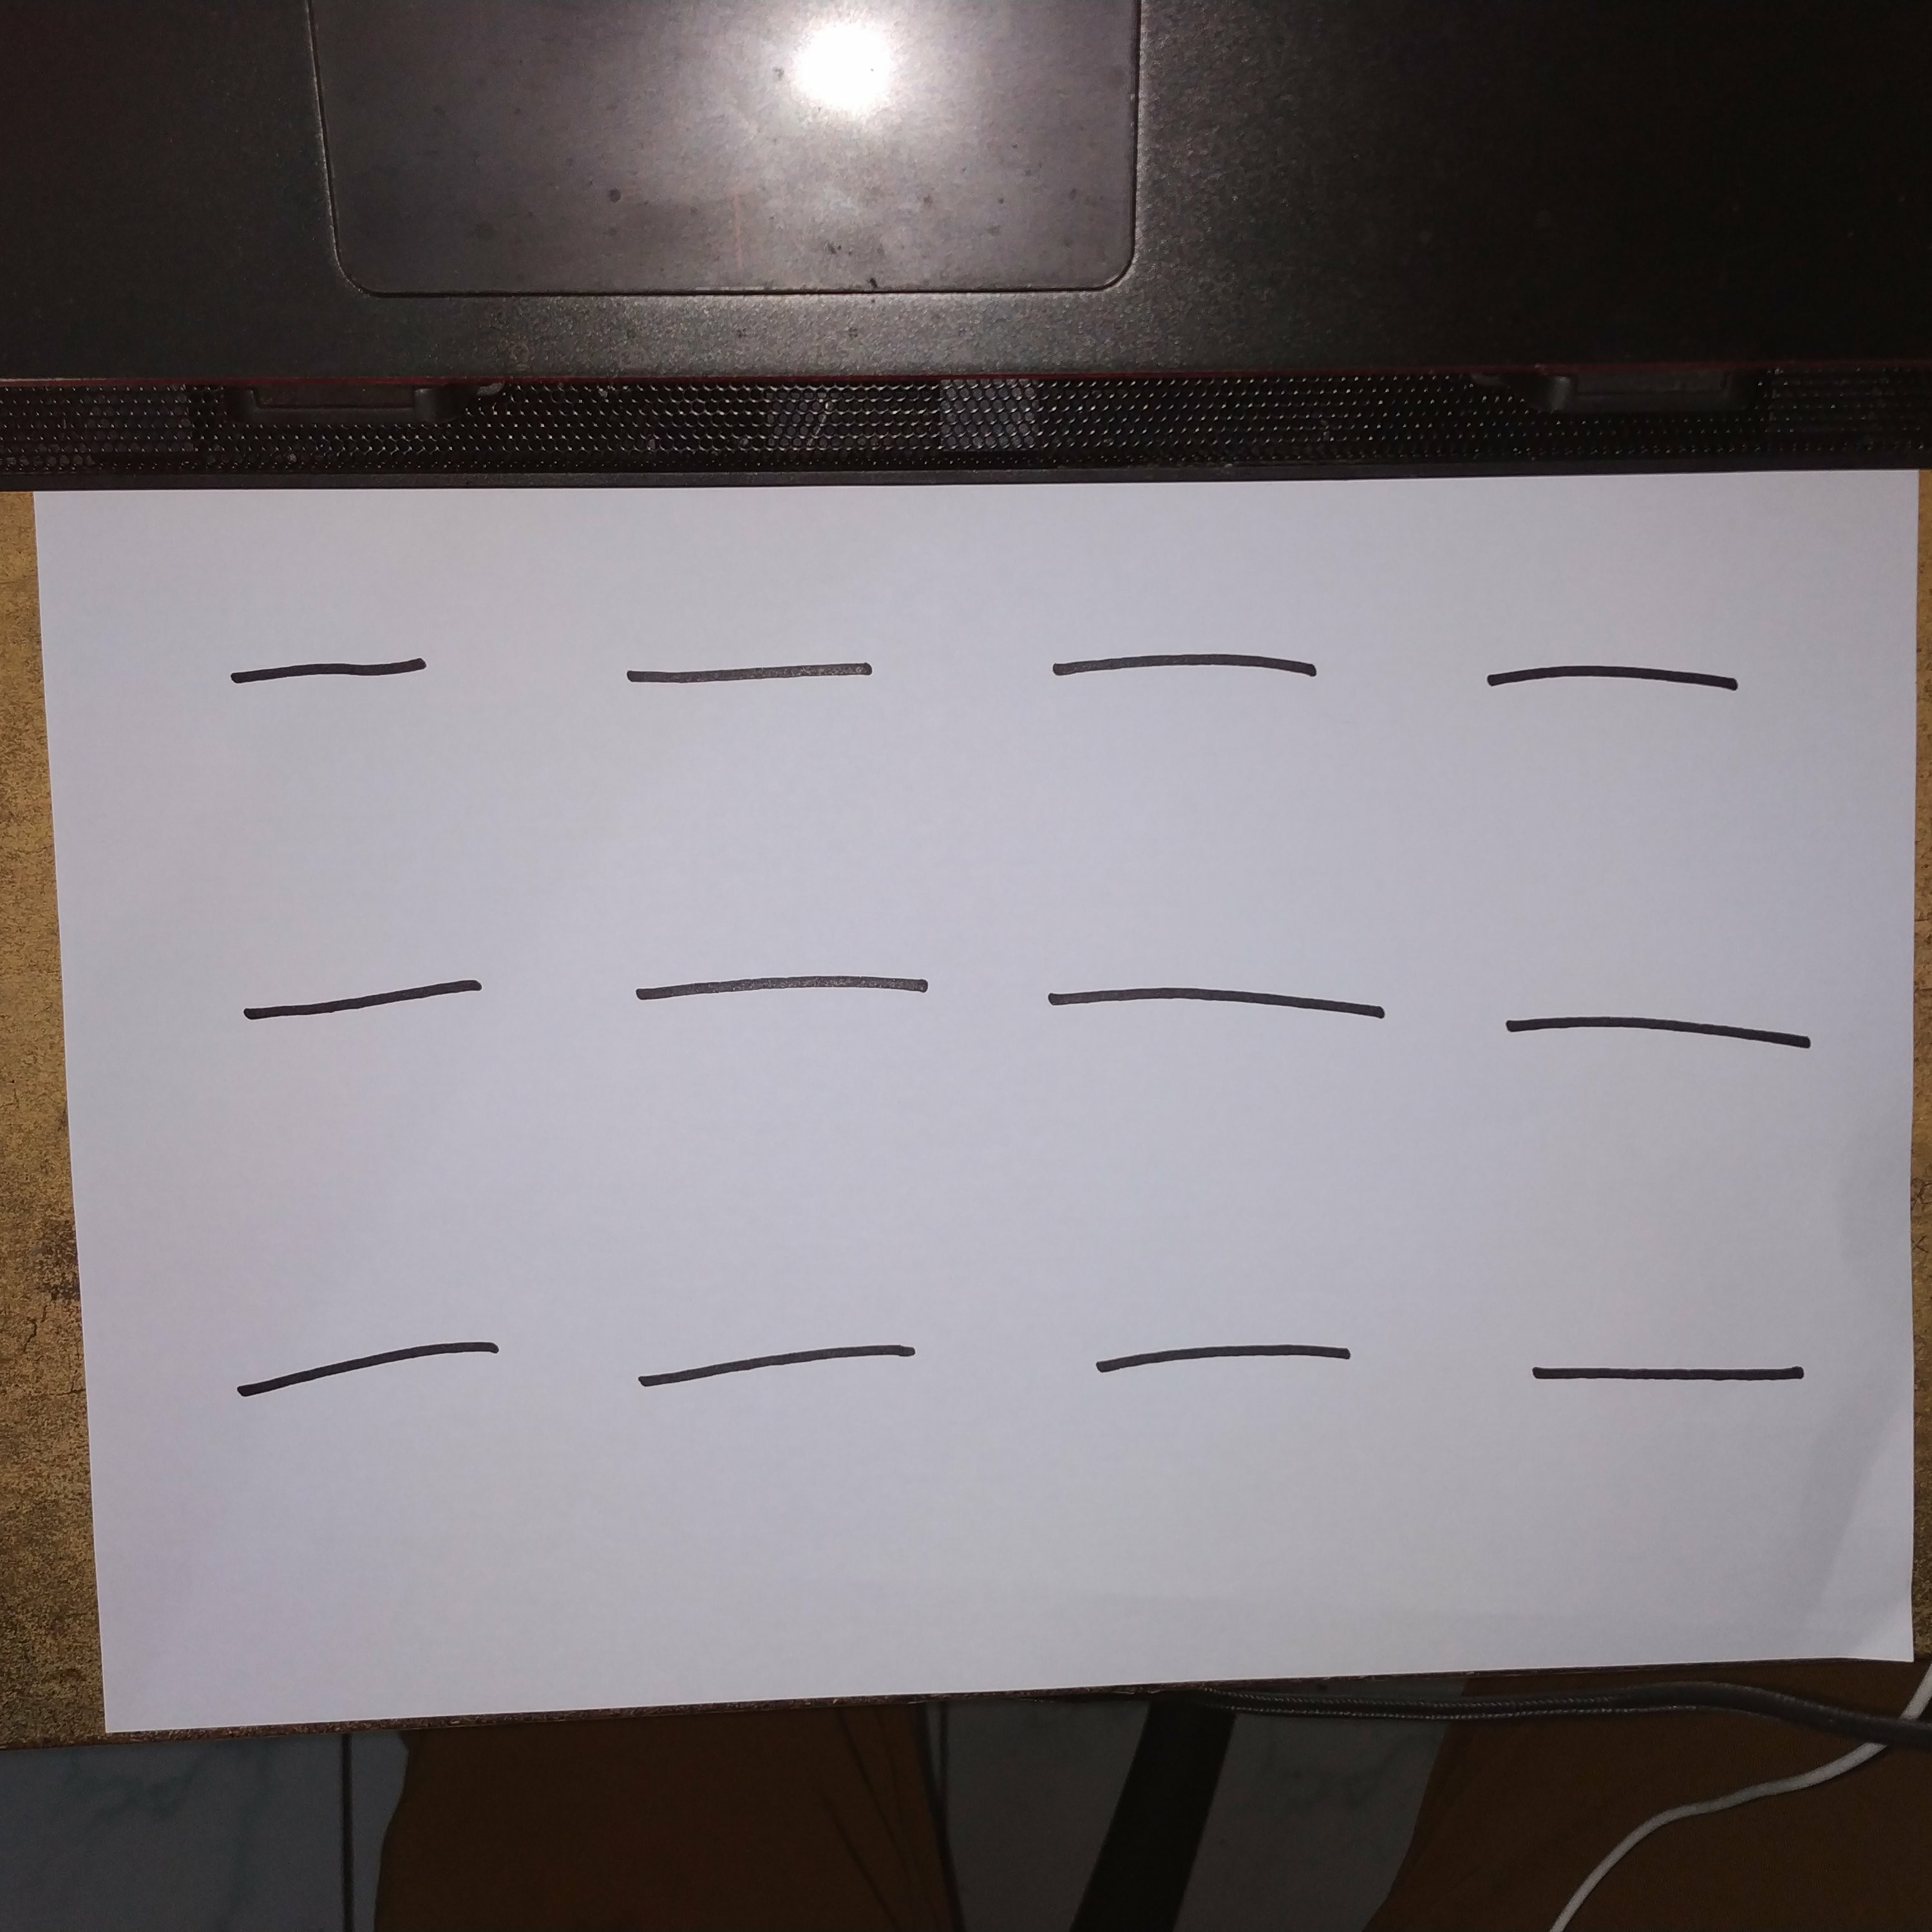min: (1028, 961, 1414, 1057), (1488, 981, 1844, 1084), (1459, 636, 1799, 729), (207, 1323, 529, 1410), (622, 1323, 956, 1405), (1510, 1332, 1836, 1412), (1086, 1319, 1378, 1406), (1036, 632, 1346, 714), (207, 956, 533, 1032), (607, 958, 967, 1020), (207, 634, 484, 712), (614, 638, 911, 708)
